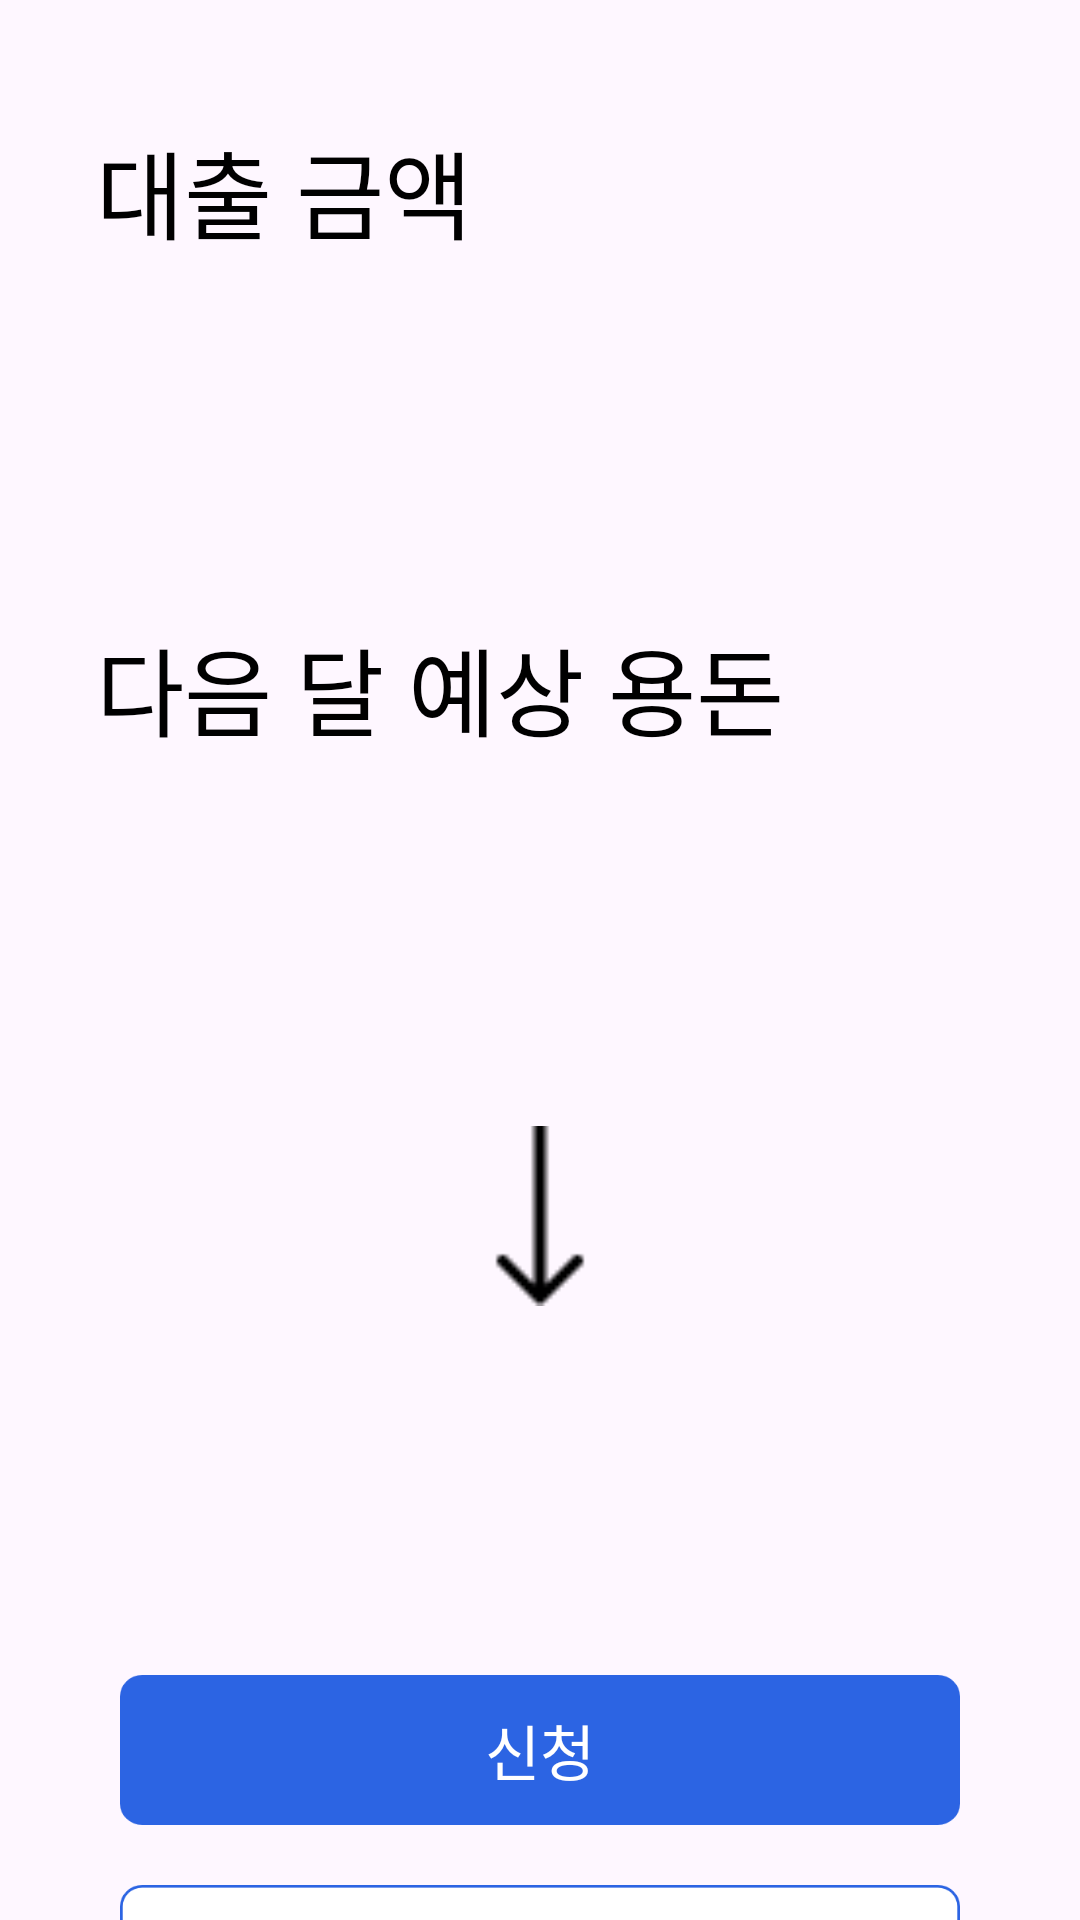

Screen size 1080px×1920px. Icon name, then its center in pixels as (x=x, y=y):
arrow downward: (x=540, y=1216)
